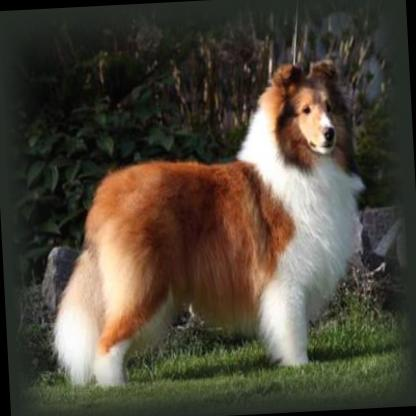Shetland_sheepdog: (36, 53, 371, 390)
